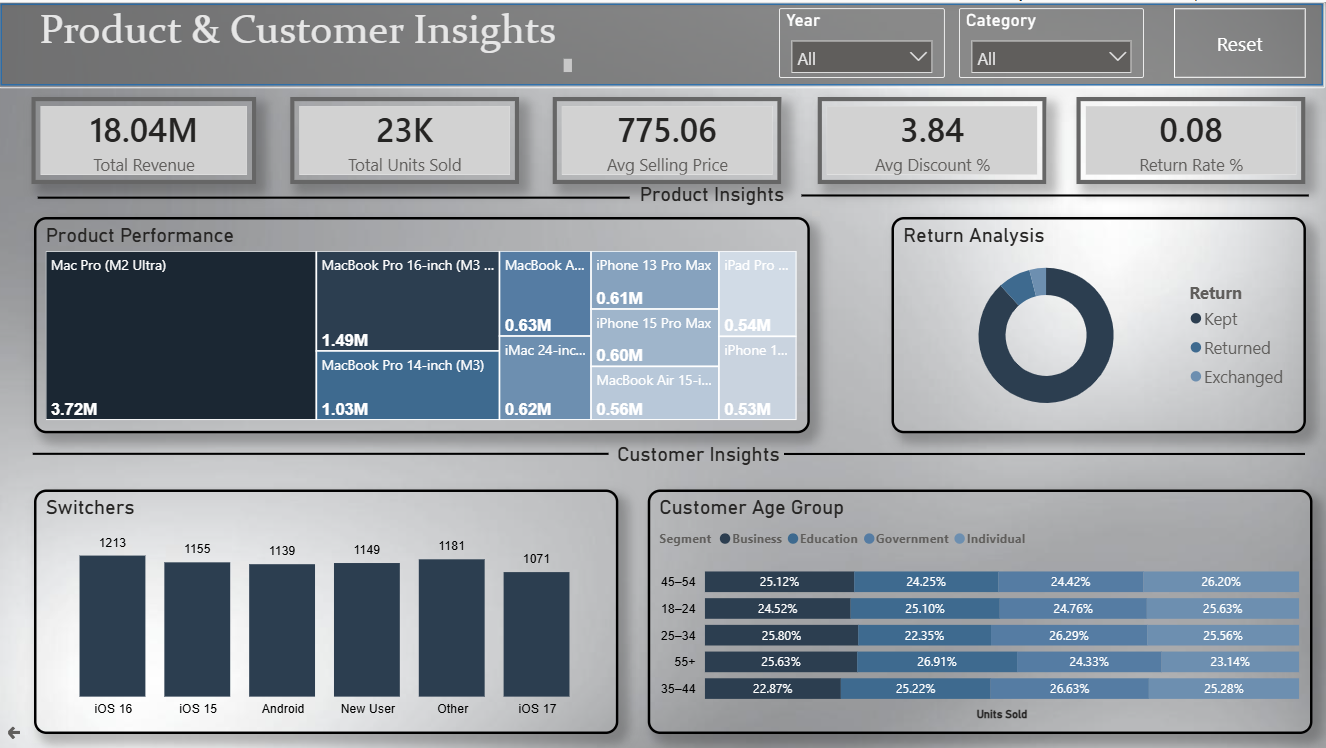

The dashboard page shown, as its layout file describes it:
{"tool":"powerbi","page":{"name":"Product & Customer Insights","canvas":[1280,720],"ordinal":2},"visuals":[{"type":"shape","box":[0,0,1280,82.9],"z":0},{"type":"cardVisual","fields":{"Data":["apple_global_sales_dataset.Total Revenue"]},"box":[31.4,91.4,217,84.1],"z":0,"group":"g1"},{"type":"textbox","title":"Product & Customer Insights","box":[34.3,1.4,524.3,71.4],"z":1000},{"type":"cardVisual","fields":{"Data":["apple_global_sales_dataset.Total Units Sold"]},"box":[280.9,91.4,221.1,84.1],"z":1000,"group":"g1"},{"type":"actionButton","box":[1134.3,5.7,127.1,67.1],"z":2000},{"type":"cardVisual","fields":{"Data":["apple_global_sales_dataset.Avg Selling Price"]},"box":[534.4,91.4,221.1,84.1],"z":2000,"group":"g1"},{"type":"slicer","title":"Year","fields":{"Values":["apple_global_sales_dataset.year"]},"box":[752.9,5.7,160,67.1],"z":3000,"group":"g4"},{"type":"cardVisual","fields":{"Data":["apple_global_sales_dataset.Avg Discount %"]},"box":[790,91.4,221.1,84.1],"z":3000,"group":"g1"},{"type":"hundredPercentStackedBarChart","title":"Customer Age Group","fields":{"Category":["apple_global_sales_dataset.customer_age_group"],"Series":["apple_global_sales_dataset.customer_segment"],"Y":["Sum(apple_global_sales_dataset.units_sold)"]},"box":[625.7,470,641.4,235.7],"z":3000},{"type":"cardVisual","fields":{"Data":["apple_global_sales_dataset.Return Rate %"]},"box":[1039.4,91.4,221.1,84.1],"z":4000,"group":"g1"},{"type":"clusteredColumnChart","title":"Switchers","fields":{"Y":["Sum(apple_global_sales_dataset.units_sold)"],"Category":["apple_global_sales_dataset.previous_device_os"]},"box":[34.3,470,564.3,235.7],"z":4000},{"type":"group","id":"g1","title":"Group 2","box":[31.4,91.4,1230,84.3],"z":5000},{"type":"slicer","title":"Category","fields":{"Values":["apple_global_sales_dataset.category"]},"box":[927.2,5.7,178.6,67.1],"z":6000,"group":"g4"},{"type":"group","id":"g2","title":"Group 4","box":[37.1,165.7,1225.7,47.1],"z":6000},{"type":"textbox","title":"Product Insights","box":[579.4,175.1,218.2,36.8],"z":7000,"group":"g2"},{"type":"treemap","title":"Product Performance","fields":{"Group":["apple_global_sales_dataset.product_name"],"Values":["Sum(apple_global_sales_dataset.revenue_usd)"]},"box":[34.3,207.1,748.6,208.6],"z":7000,"group":"g5"},{"type":"group","id":"g3","title":"Group 4","box":[32.9,405.7,1228.2,61.4],"z":7000},{"type":"textbox","title":"Customer Insights","box":[566,426.1,218.6,31.4],"z":7000,"group":"g3"},{"type":"shape","box":[37.1,165.7,571.4,47.1],"z":8000,"group":"g2"},{"type":"donutChart","title":"Return Analysis","fields":{"Category":["apple_global_sales_dataset.return_status"],"Y":["CountNonNull(apple_global_sales_dataset.sale_id)"]},"box":[861.4,207.1,400,208.6],"z":8000,"group":"g5"},{"type":"shape","box":[32.9,405.7,555.7,61.4],"z":8000,"group":"g3"},{"type":"actionButton","box":[0,691.4,32.9,28.6],"z":8000},{"type":"group","id":"g4","title":"Group 3","box":[752.9,5.7,352.9,67.1],"z":9000},{"type":"shape","box":[774.1,166.5,489.8,40.5],"z":9000,"group":"g2"},{"type":"shape","box":[758.2,416.7,502.9,40],"z":9000,"group":"g3"},{"type":"group","id":"g5","title":"Group 1","box":[34.3,207.1,1227.1,208.6],"z":10000}]}

Visuals, with their boxes in screenshot pixels (x1, y1, x2, y2), scaled from the page's 1280x720 canvas onto the 1326x748 screenshot:
shape: 0 0 1325 86
cardVisual - apple_global_sales_dataset.Total Revenue: 33 95 257 182
"Product & Customer Insights" textbox: 36 1 579 76
cardVisual - apple_global_sales_dataset.Total Units Sold: 291 95 520 182
actionButton: 1175 6 1307 76
cardVisual - apple_global_sales_dataset.Avg Selling Price: 554 95 783 182
"Year" slicer: 780 6 946 76
cardVisual - apple_global_sales_dataset.Avg Discount %: 818 95 1047 182
"Customer Age Group" hundredPercentStackedBarChart: 648 488 1313 733
cardVisual - apple_global_sales_dataset.Return Rate %: 1077 95 1306 182
"Switchers" clusteredColumnChart: 36 488 620 733
"Group 2" group: 33 95 1307 183
"Category" slicer: 961 6 1146 76
"Group 4" group: 38 172 1308 221
"Product Insights" textbox: 600 182 826 220
"Product Performance" treemap: 36 215 811 432
"Group 4" group: 34 421 1306 485
"Customer Insights" textbox: 586 443 813 475
shape: 38 172 630 221
"Return Analysis" donutChart: 892 215 1307 432
shape: 34 421 610 485
actionButton: 0 718 34 747
"Group 3" group: 780 6 1146 76
shape: 802 173 1309 215
shape: 785 433 1306 474
"Group 1" group: 36 215 1307 432
